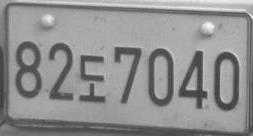0: (212, 50, 240, 112), (147, 47, 174, 107)
2: (47, 41, 74, 101)
4: (178, 49, 208, 110)
7: (113, 46, 142, 105)
8: (14, 39, 43, 99)
도: (78, 54, 106, 103)
